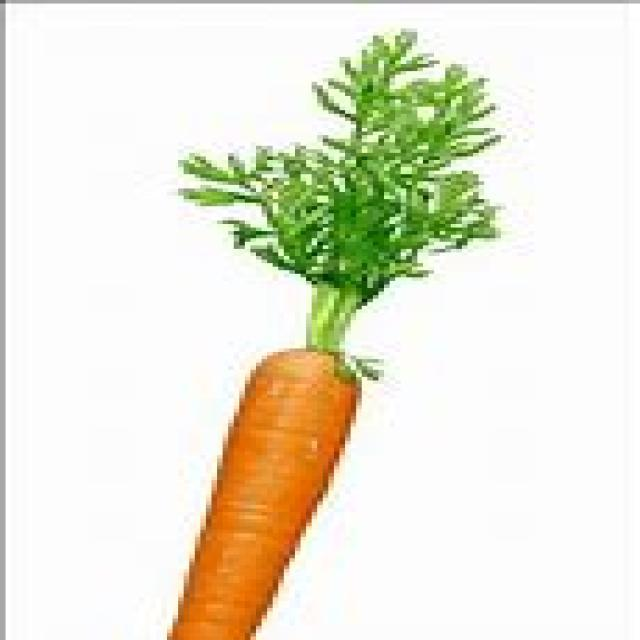carrot: (167, 350, 361, 639)
